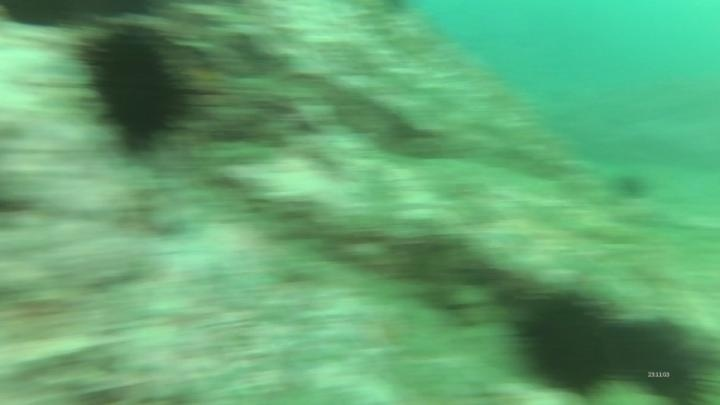echinus: (74, 25, 197, 159), (511, 286, 621, 399), (597, 311, 717, 404)
